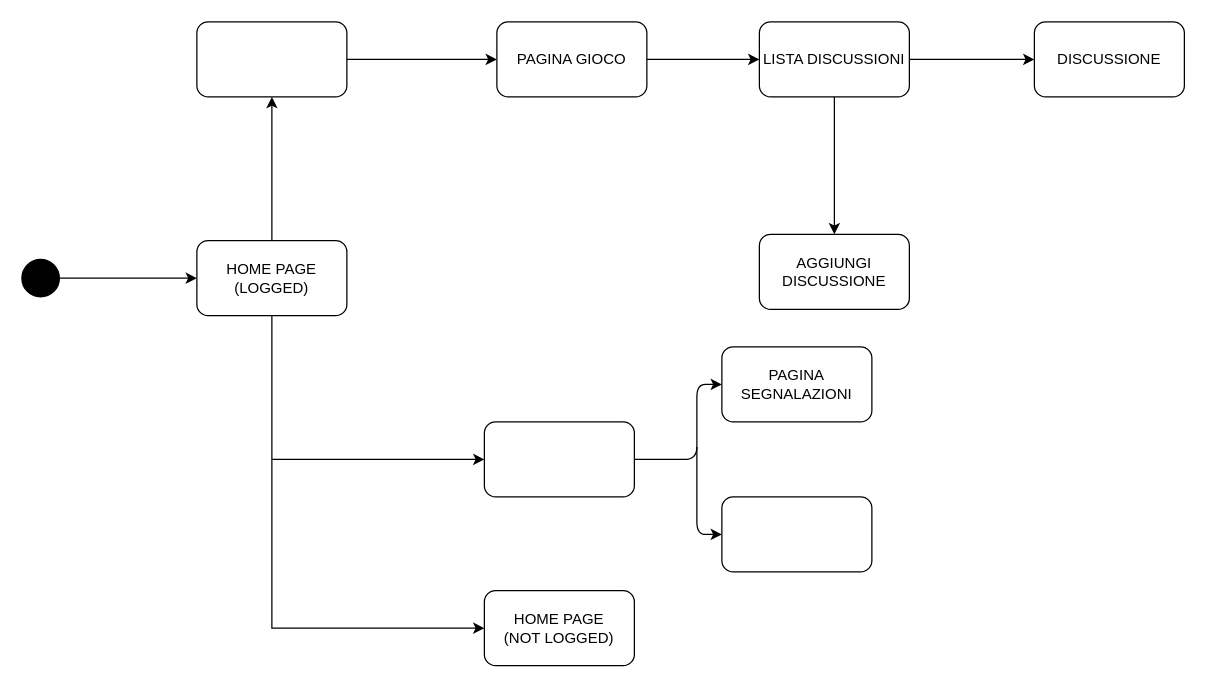
Image size: 1206x688. Some labels were removed from this diagram. The centre of each missing label's shape, as x and y in pixels:
CAMBIA PASSWORD: point (796, 534)
LISTA GIOCHI: point (271, 59)
PROFILO MODERATORE: point (558, 459)
